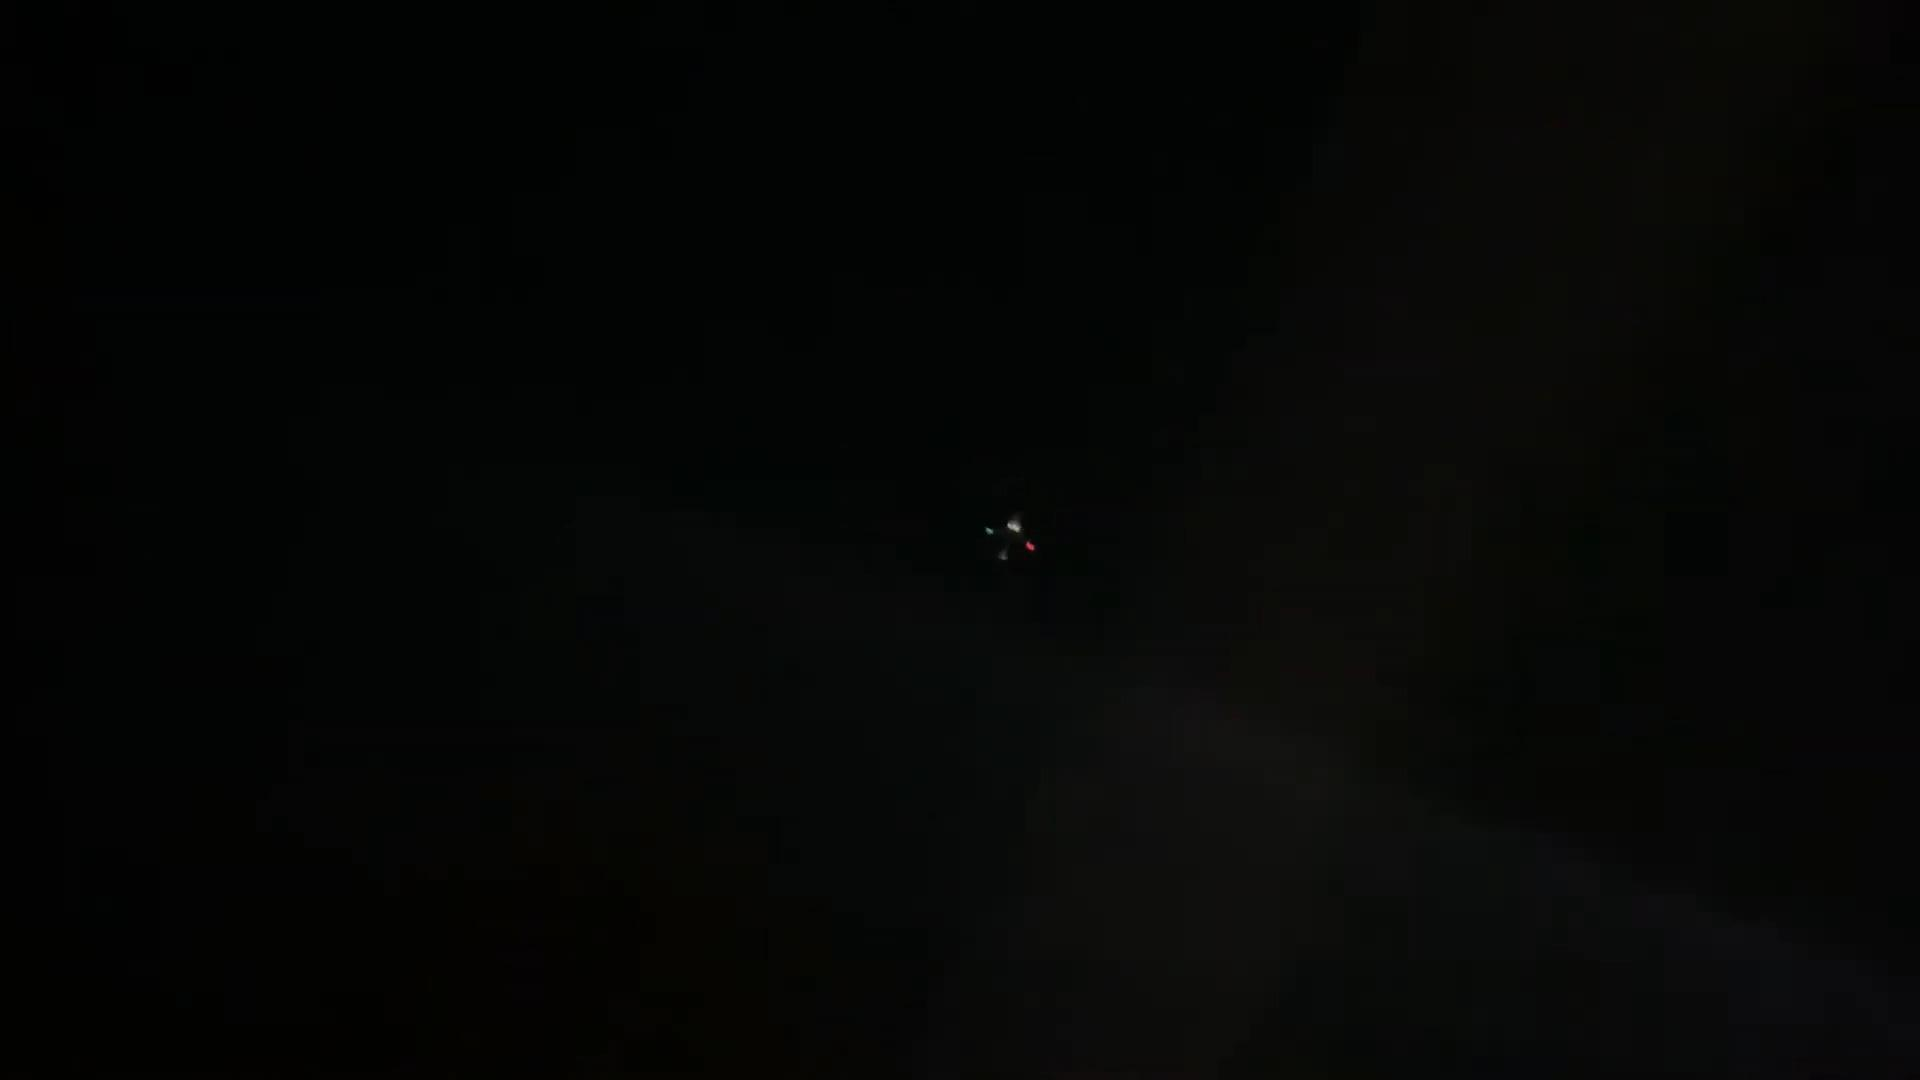Plane: (932, 495, 1085, 582)
